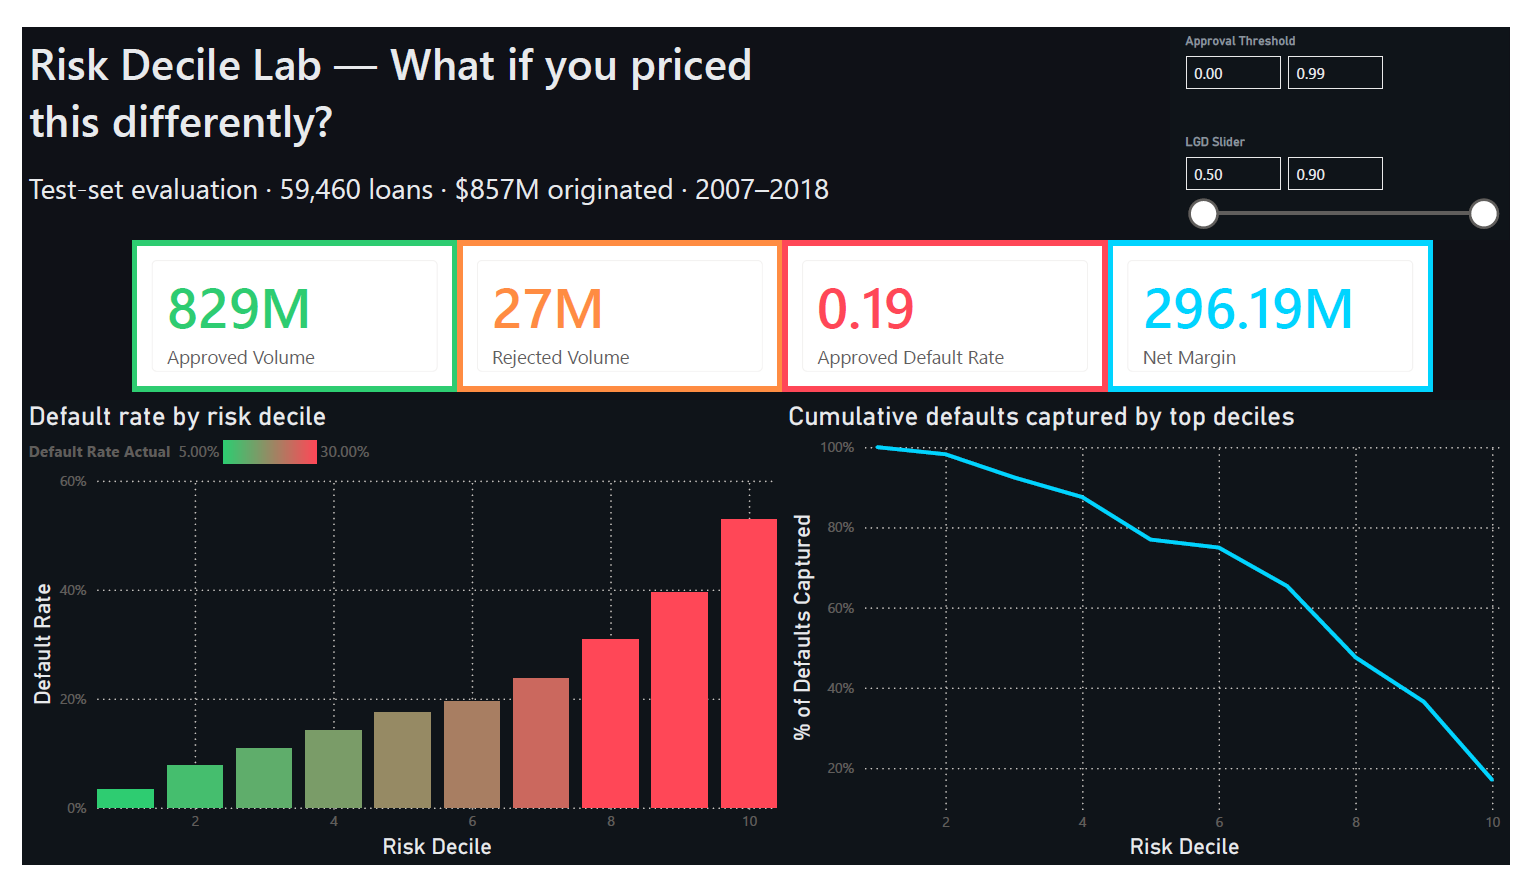

What the dashboard file says about the page in this screenshot:
{"tool":"powerbi","page":{"name":"Risk Decile Lab","canvas":[1280,720],"ordinal":1},"visuals":[{"type":"textbox","box":[0,0,675.1,116.6],"z":0},{"type":"textbox","box":[0,116.2,707.5,58.8],"z":1000},{"type":"slicer","fields":{"Values":["Approval Threshold.Approval Threshold"]},"box":[987.6,0,291.9,87],"z":2000},{"type":"slicer","fields":{"Values":["LGD Slider.LGD Slider"]},"box":[987.6,87,291.9,95.3],"z":3000},{"type":"cardVisual","fields":{"Data":["Approval Threshold.Approved Volume"]},"box":[93.8,182.5,280,130],"z":4000},{"type":"cardVisual","fields":{"Data":["Approval Threshold.Rejected Volume"]},"box":[373.8,182.5,280,130],"z":5000},{"type":"cardVisual","fields":{"Data":["Approval Threshold.Net Margin"]},"box":[933.8,182.5,280,130],"z":6000},{"type":"cardVisual","fields":{"Data":["Approval Threshold.Approved Default Rate"]},"box":[653.8,182.5,280,130],"z":7000},{"type":"clusteredColumnChart","title":"Default rate by risk decile","fields":{"Category":["loan_predictions.risk_decile"],"Y":["loan_predictions.Default Rate Actual"]},"box":[0,321.2,653.8,398.8],"z":8000},{"type":"lineChart","title":"Cumulative defaults captured by top deciles","fields":{"Category":["loan_predictions.risk_decile"],"Y":["loan_predictions.Cumulative Default Capture"]},"box":[653.8,321.2,626.2,398.8],"z":9000}]}

Visuals, with their boxes on the page's 1280x720 design canvas (x1, y1, x2, y2). These are canvas units, not pixel positions in the 1537x892 screenshot, which may show the page scaled, cropped or inside an application window:
textbox: box=[0, 0, 675, 117]
textbox: box=[0, 116, 708, 175]
slicer - Approval Threshold.Approval Threshold: box=[988, 0, 1280, 87]
slicer - LGD Slider.LGD Slider: box=[988, 87, 1280, 182]
cardVisual - Approval Threshold.Approved Volume: box=[94, 182, 374, 312]
cardVisual - Approval Threshold.Rejected Volume: box=[374, 182, 654, 312]
cardVisual - Approval Threshold.Net Margin: box=[934, 182, 1214, 312]
cardVisual - Approval Threshold.Approved Default Rate: box=[654, 182, 934, 312]
"Default rate by risk decile" clusteredColumnChart: box=[0, 321, 654, 720]
"Cumulative defaults captured by top deciles" lineChart: box=[654, 321, 1280, 720]
